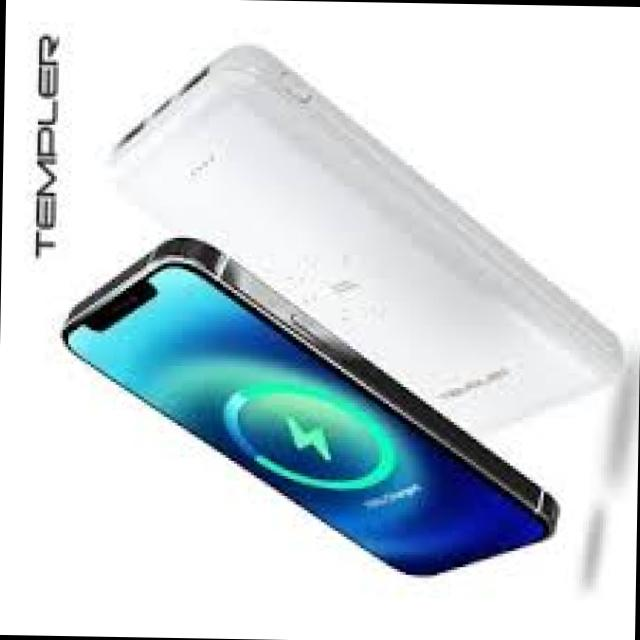power_bank: (100, 37, 632, 456)
